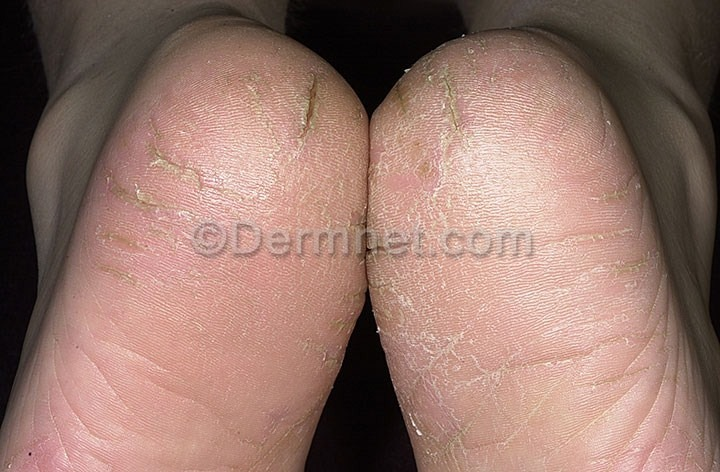Eczema: (98, 68, 371, 281), (379, 235, 562, 446), (378, 65, 516, 214)
